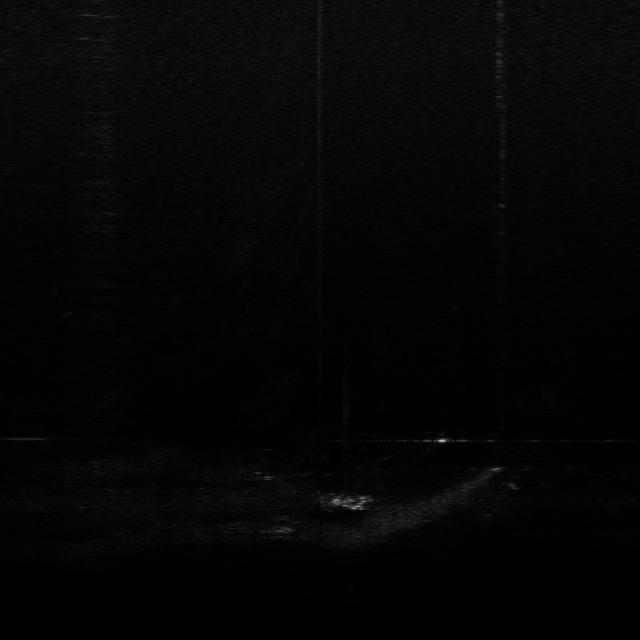rov: (329, 493, 372, 512)
